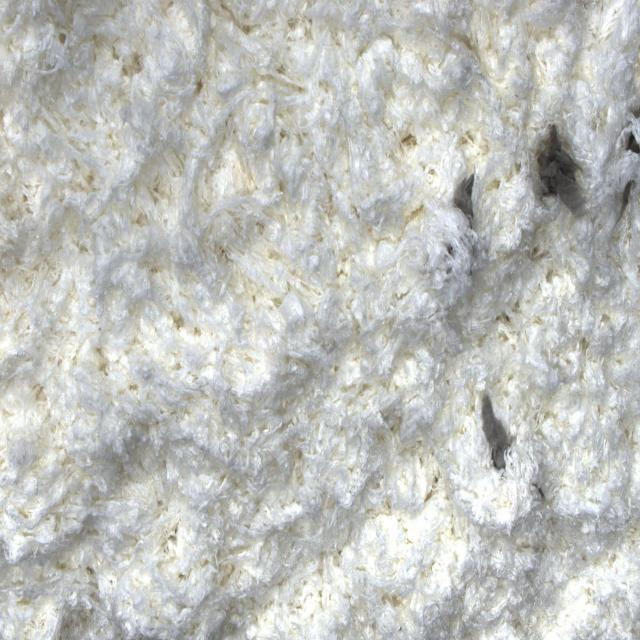dust: (531, 118, 588, 232), (467, 386, 522, 482), (445, 163, 485, 276), (614, 111, 640, 175)
